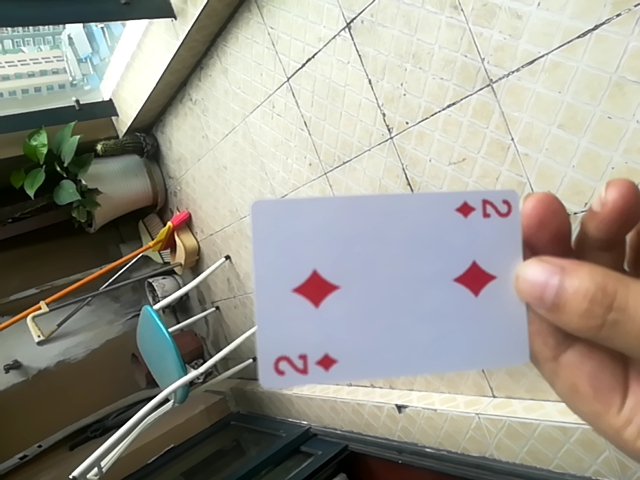fk 2: (250, 193, 537, 390)
